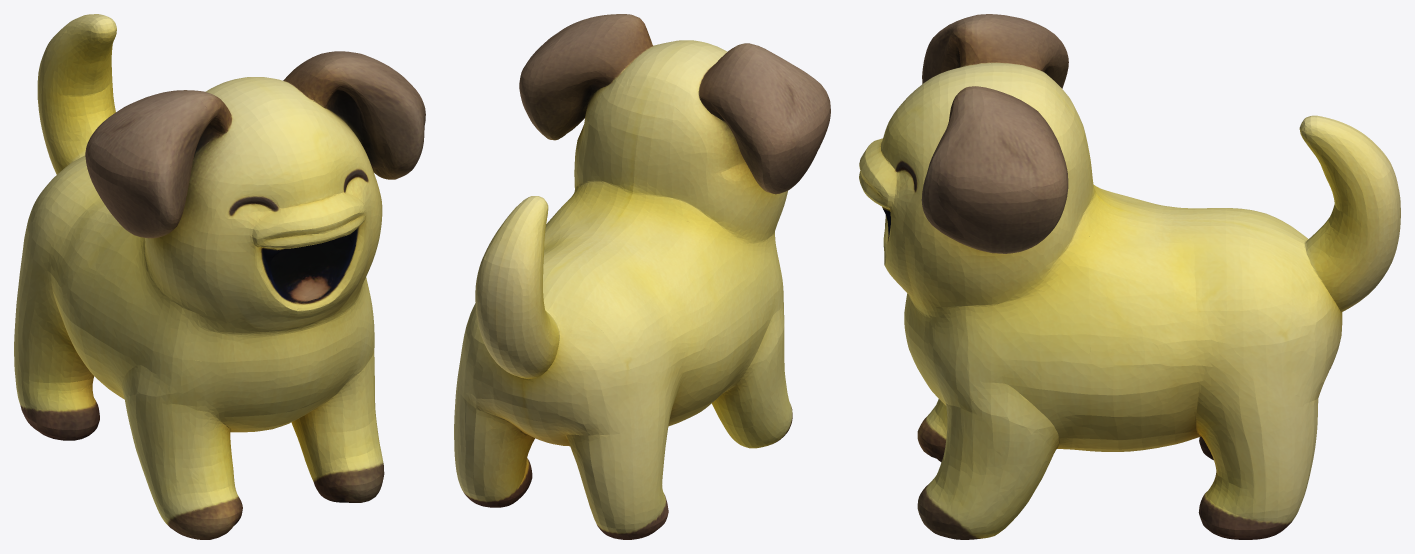
The model's file is dog.glb.
3 views of the same model, side by side, from view 1: azimuth 30°, elevation 25°; view 2: azimuth 150°, elevation 25°; view 3: azimuth 270°, elevation 25° (orthographic). The views are drawn at different scales.
Visible parts, largest first — view 1: geometry_0; view 2: geometry_0; view 3: geometry_0.
Boxes of the visible parts, x1,y1,x2,y2 form: geometry_0: [14, 14, 425, 539]; geometry_0: [454, 14, 830, 539]; geometry_0: [859, 14, 1400, 539].
Bounding box in the file's own units: 0.056 × 0.075 × 0.0833.
Materials: 1 (1 with a texture image).
